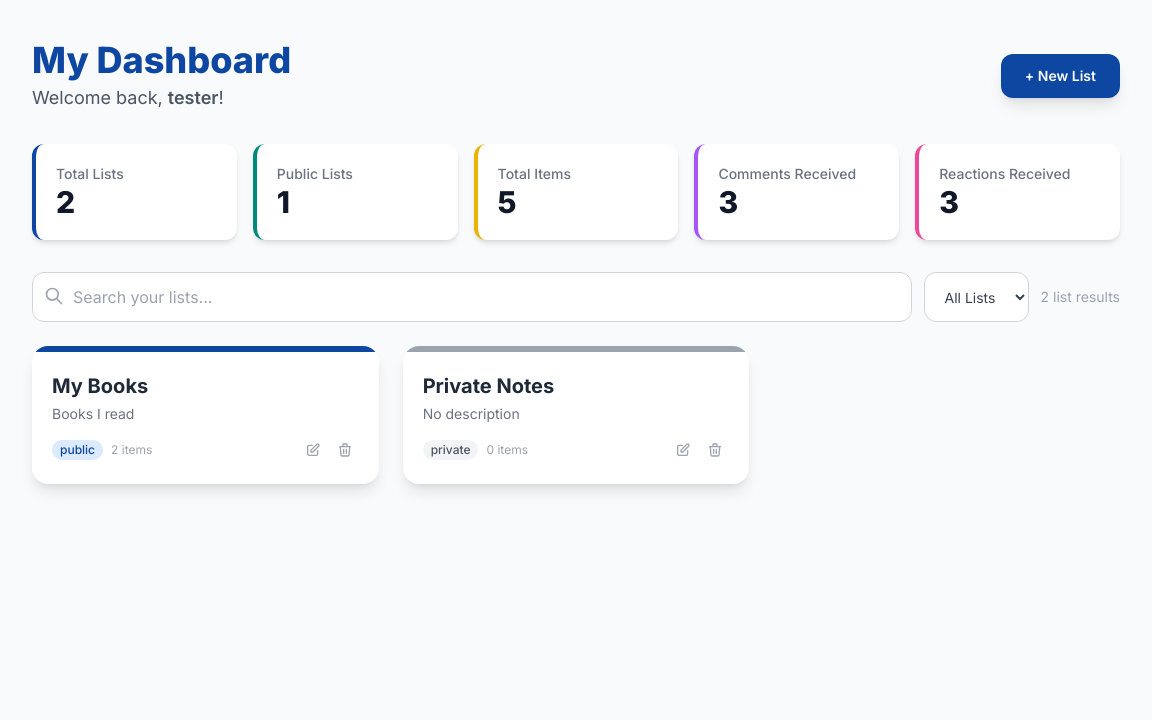
it: Dashboard › opens create list modal
Click the button "+ New List" at (1060, 76), box [1001, 54, 1120, 98]
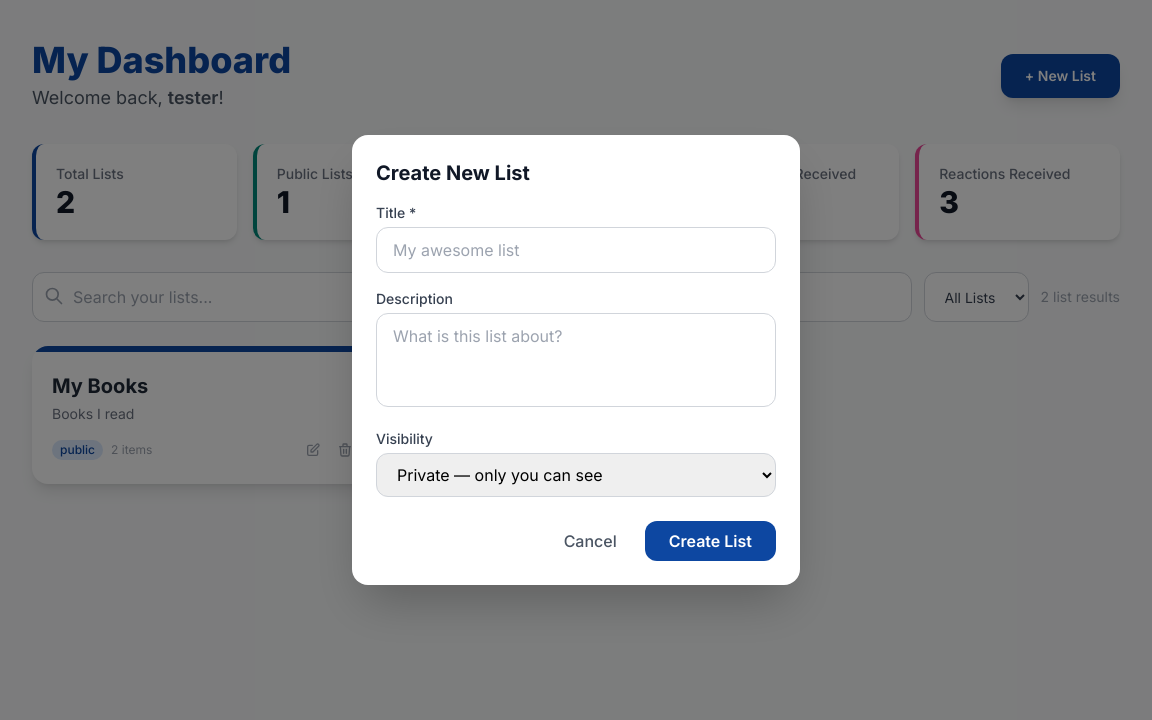
Result: the heading "Create New List" is shown at [376, 161, 530, 185]
